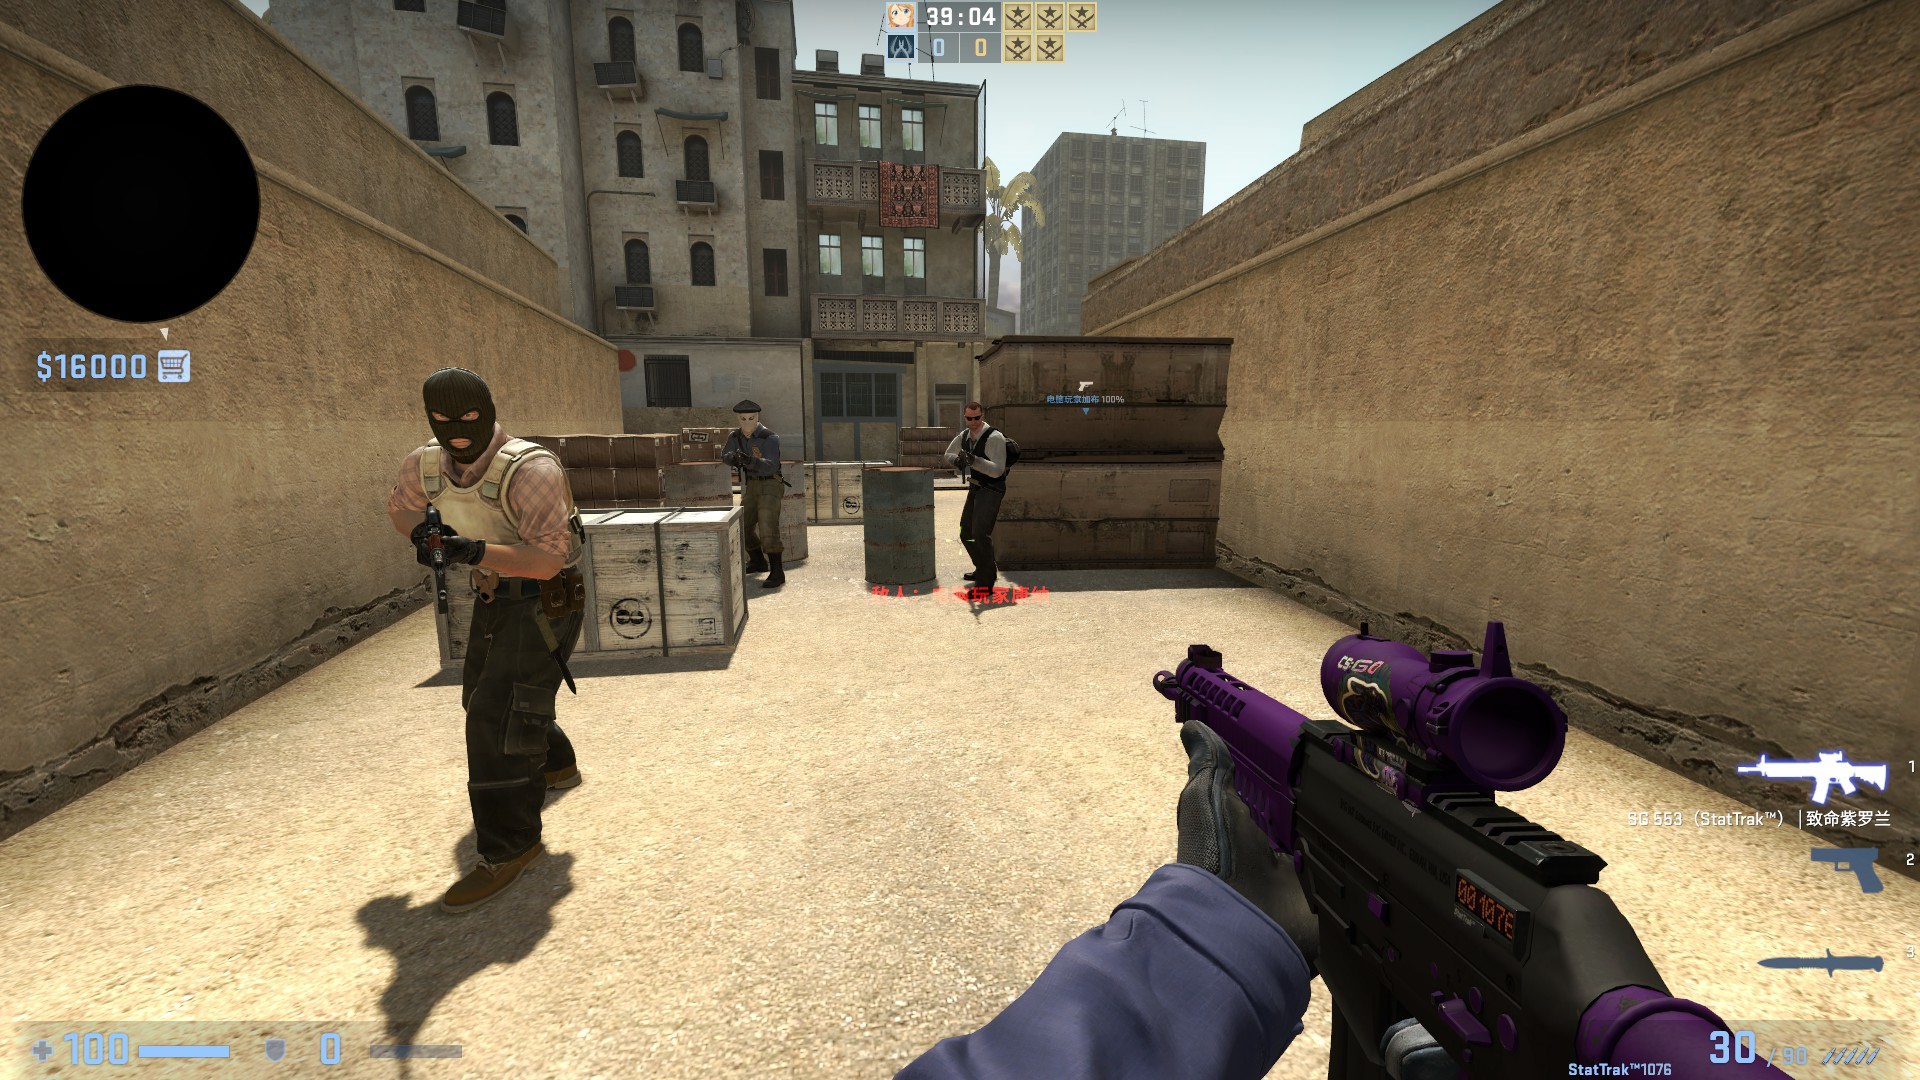head: (415, 364, 503, 462), (732, 399, 763, 437), (963, 401, 983, 433)
